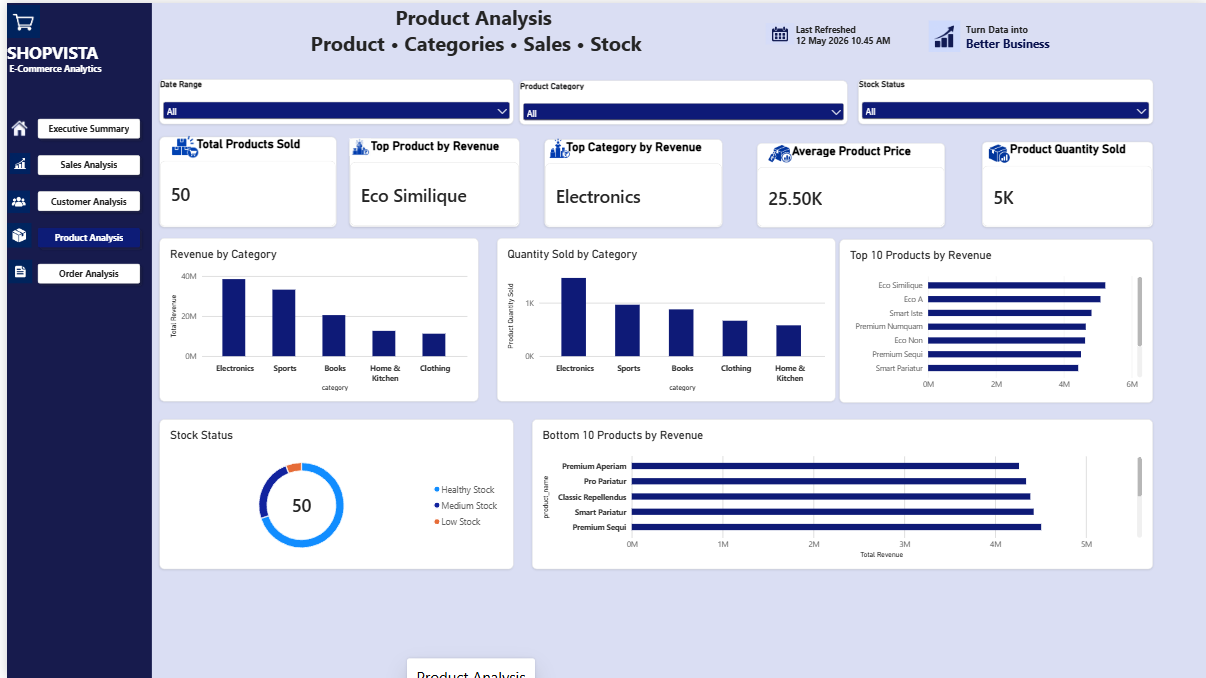

Layout of this report page (visuals, bound fields, positions):
{"tool":"powerbi","page":{"name":"Product Analysis","canvas":[1920,1080],"ordinal":3},"visuals":[{"type":"cardVisual","title":"Total Products Sold","fields":{"Data":["DateTable.Total Products Sold"]},"box":[243.3,213.3,283.3,145],"z":0},{"type":"cardVisual","title":"Top Product by Revenue","fields":{"Data":["DateTable.Top Product by Revenue"]},"box":[548,216,272,142],"z":1000},{"type":"cardVisual","title":"Product Quantity Sold","fields":{"Data":["DateTable.Product Quantity Sold"]},"box":[1560,221,273.3,136.7],"z":2000},{"type":"cardVisual","title":"Top Category by Revenue","fields":{"Data":["DateTable.Top Category by Revenue"]},"box":[859,217,285,141],"z":3000},{"type":"cardVisual","title":"Average Product Price","fields":{"Data":["DateTable.Average Product Price"]},"box":[1200,223,301,135],"z":4000},{"type":"clusteredColumnChart","title":"Revenue by Category","fields":{"Category":["products.category"],"Y":["order_items.Total Revenue"]},"box":[243.3,376.7,510,261.7],"z":5000},{"type":"clusteredColumnChart","title":"Quantity Sold by Category","fields":{"Category":["products.category"],"Y":["DateTable.Product Quantity Sold"]},"box":[783.3,376.7,541.7,261.7],"z":6000},{"type":"clusteredBarChart","title":"Top 10 Products by Revenue","fields":{"Category":["products.product_name"],"Y":["order_items.Total Revenue"]},"box":[1332.5,377.5,501.7,261.7],"z":7000},{"type":"donutChart","title":"Stock Status","fields":{"Category":["products.Stock Status"],"Y":["CountNonNull(products.product_id)"]},"box":[243.3,665,566.7,240],"z":8000},{"type":"slicer","title":"Date Range","fields":{"Values":["DateTable.Date"]},"box":[243.3,121.7,566.7,71.7],"z":9000},{"type":"slicer","title":"Stock Status","fields":{"Values":["products.Stock Status"]},"box":[1361.7,121.7,471.7,71.7],"z":10000},{"type":"slicer","title":"Product Category","fields":{"Values":["products.category"]},"box":[820,123.3,525,70],"z":11000},{"type":"textbox","box":[363.3,0,773.3,106.7],"z":12000},{"type":"shape","box":[0,0,231.8,1080],"z":13000},{"type":"textbox","box":[0.9,60,202.7,105.5],"z":14000},{"type":"image","box":[1.8,183.6,36.2,33.1],"z":16000},{"type":"image","box":[1.8,240,37.5,33.3],"z":18000},{"type":"image","box":[0.9,300,37.5,35.8],"z":20000},{"type":"image","box":[0.9,347.3,39,47],"z":22000},{"type":"image","box":[2.7,410.9,38,39],"z":24000},{"type":"image","box":[0,0,52.7,59.1],"z":25000},{"type":"textbox","box":[1262.5,32.5,206.2,55],"z":26000},{"type":"image","box":[1209.2,32.5,53.3,34.2],"z":27000},{"type":"textbox","box":[1534.4,32.2,147.8,54.4],"z":28000},{"type":"image","box":[1466.7,27.8,67.8,50],"z":29000},{"type":"clusteredBarChart","title":"Bottom 10 Products by Revenue","fields":{"Category":["products.product_name"],"Y":["order_items.Total Revenue"]},"box":[840,665,993.3,240],"z":35000},{"type":"image","box":[1560,219,53,40],"z":35001},{"type":"image","box":[1213,220,46,40],"z":35002},{"type":"image","box":[859,214,49,37],"z":35003},{"type":"image","box":[548,216,34,30],"z":35004},{"type":"image","box":[255,200,56.7,60],"z":35005},{"type":"pageNavigator","box":[40,175.5,182.2,284.4],"z":35006}]}

Visuals, with their boxes on the page's 1920x1080 design canvas (x1, y1, x2, y2). These are canvas units, not pixel positions in the 1206x678 screenshot, which may show the page scaled, cropped or inside an application window:
"Total Products Sold" cardVisual: Rect(243, 213, 527, 358)
"Top Product by Revenue" cardVisual: Rect(548, 216, 820, 358)
"Product Quantity Sold" cardVisual: Rect(1560, 221, 1833, 358)
"Top Category by Revenue" cardVisual: Rect(859, 217, 1144, 358)
"Average Product Price" cardVisual: Rect(1200, 223, 1501, 358)
"Revenue by Category" clusteredColumnChart: Rect(243, 377, 753, 638)
"Quantity Sold by Category" clusteredColumnChart: Rect(783, 377, 1325, 638)
"Top 10 Products by Revenue" clusteredBarChart: Rect(1332, 378, 1834, 639)
"Stock Status" donutChart: Rect(243, 665, 810, 905)
"Date Range" slicer: Rect(243, 122, 810, 193)
"Stock Status" slicer: Rect(1362, 122, 1833, 193)
"Product Category" slicer: Rect(820, 123, 1345, 193)
textbox: Rect(363, 0, 1137, 107)
shape: Rect(0, 0, 232, 1080)
textbox: Rect(1, 60, 204, 166)
image: Rect(2, 184, 38, 217)
image: Rect(2, 240, 39, 273)
image: Rect(1, 300, 38, 336)
image: Rect(1, 347, 40, 394)
image: Rect(3, 411, 41, 450)
image: Rect(0, 0, 53, 59)
textbox: Rect(1262, 32, 1469, 88)
image: Rect(1209, 32, 1262, 67)
textbox: Rect(1534, 32, 1682, 87)
image: Rect(1467, 28, 1534, 78)
"Bottom 10 Products by Revenue" clusteredBarChart: Rect(840, 665, 1833, 905)
image: Rect(1560, 219, 1613, 259)
image: Rect(1213, 220, 1259, 260)
image: Rect(859, 214, 908, 251)
image: Rect(548, 216, 582, 246)
image: Rect(255, 200, 312, 260)
pageNavigator: Rect(40, 176, 222, 460)
